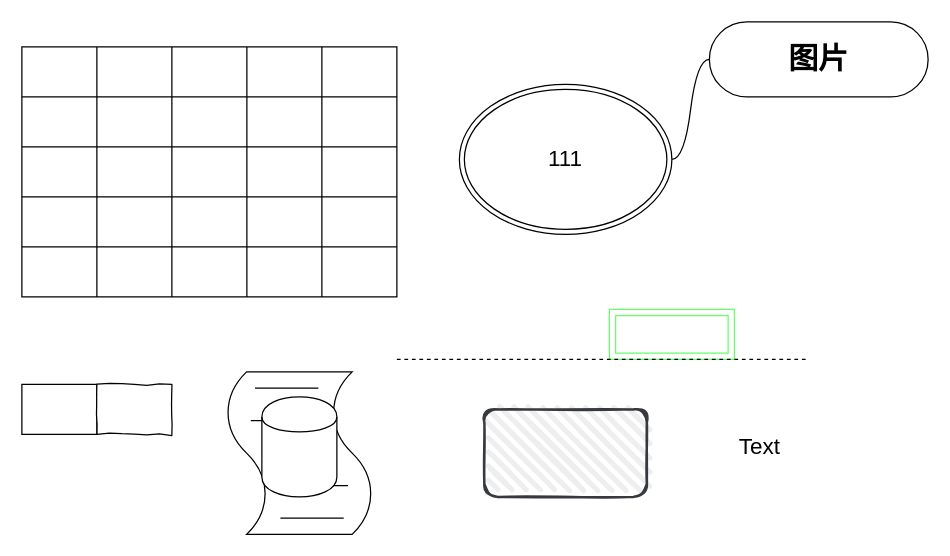
The diagram is 950 pixels wide and 556 high, and some of its shapes have lost their labels. The centre of each missing label's shape, as x and y in pixels:
"Entity" goes at pixel 671 333.
"我的颜色正好字看的很清楚" goes at pixel 565 453.
